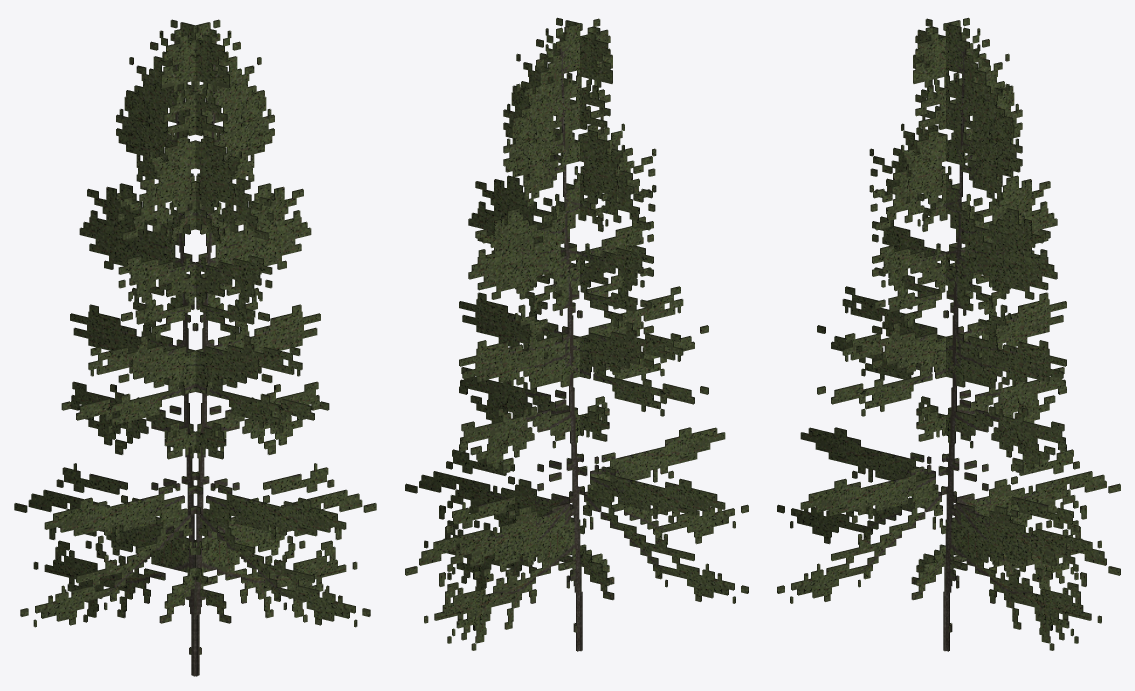
Rendered from impostor-fir-b-near.glb.
The picture shows the model from 3 angles, left to right: view 1: azimuth 30°, elevation 25°; view 2: azimuth 150°, elevation 25°; view 3: azimuth 270°, elevation 25°; orthographic projection. The views are drawn at different scales.
Bounding box in the file's own units: 4.12 × 7.2 × 3.58.
Materials: 1 (1 with a texture image).
